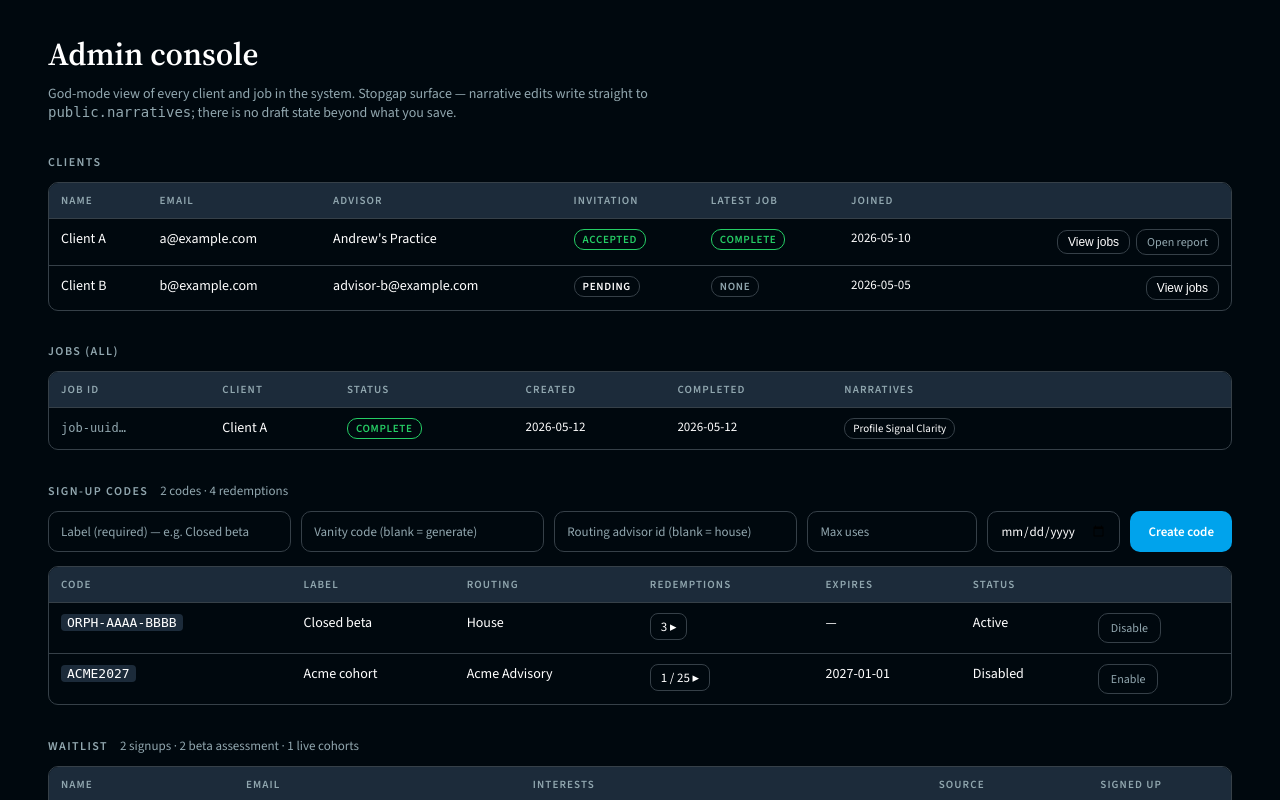
Scenario: AdminPage › requires a label before creating
Click the button "Create code". click: (1181, 532)
box: [1130,511,1232,552]
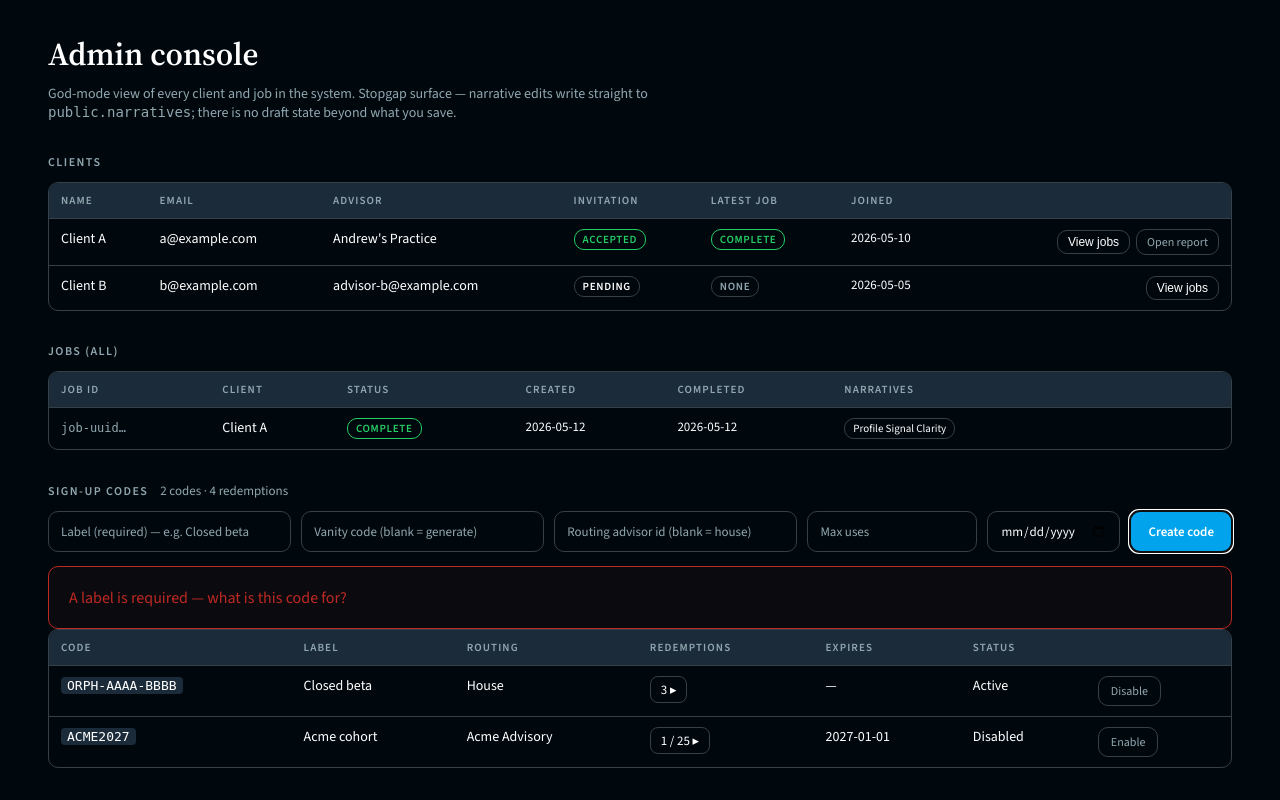
Now the text "A label is required — what is this code for?" is shown, box [48,566,1232,629]
